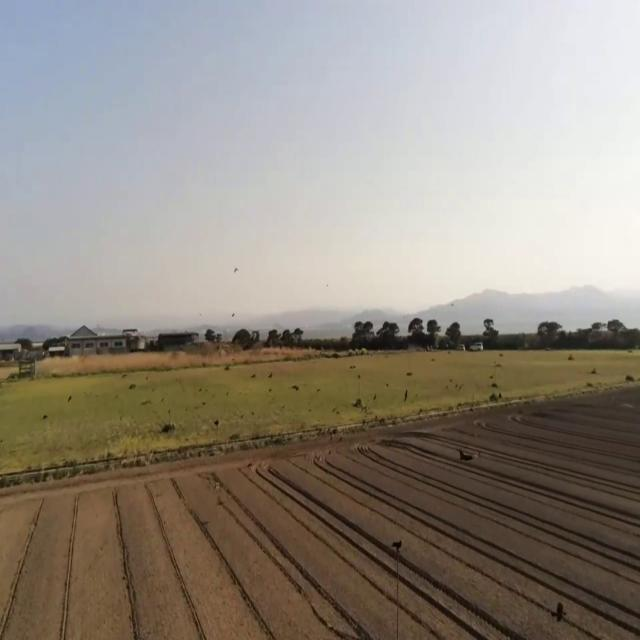bird: (552, 597, 566, 628), (458, 442, 470, 465), (234, 264, 238, 278)
